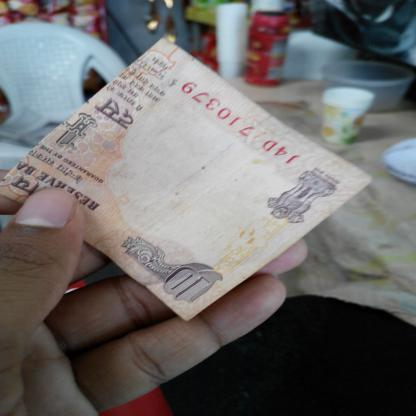Old10Front: (0, 37, 374, 324)
